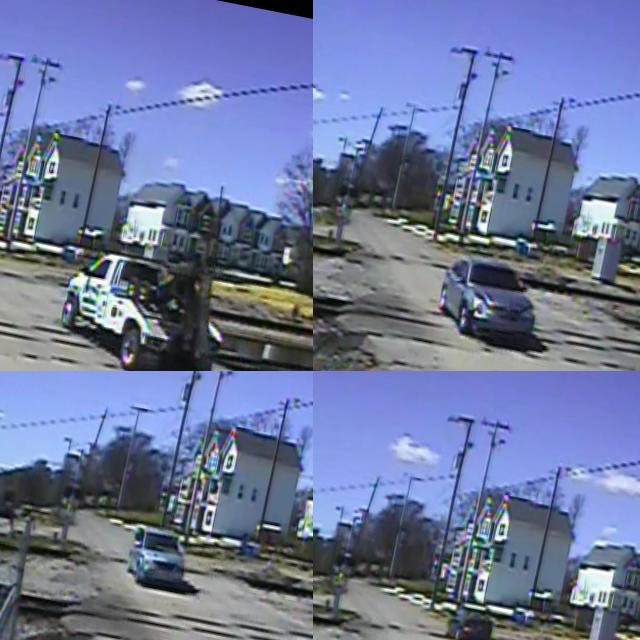barrier: (73, 404, 119, 489), (346, 466, 386, 556), (355, 103, 395, 188), (0, 107, 19, 199)
car: (430, 242, 549, 350), (121, 515, 198, 606), (442, 592, 505, 640)
rails: (313, 195, 640, 365), (0, 198, 313, 352), (0, 507, 313, 640), (0, 241, 313, 371), (313, 250, 640, 371), (0, 540, 313, 640), (313, 562, 640, 640)
traffic-signal: (314, 178, 376, 262), (43, 477, 92, 558), (322, 548, 359, 628), (0, 186, 25, 270)
truck: (52, 233, 234, 371)
